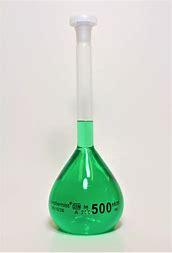Volumetric flask: (35, 12, 134, 241)
